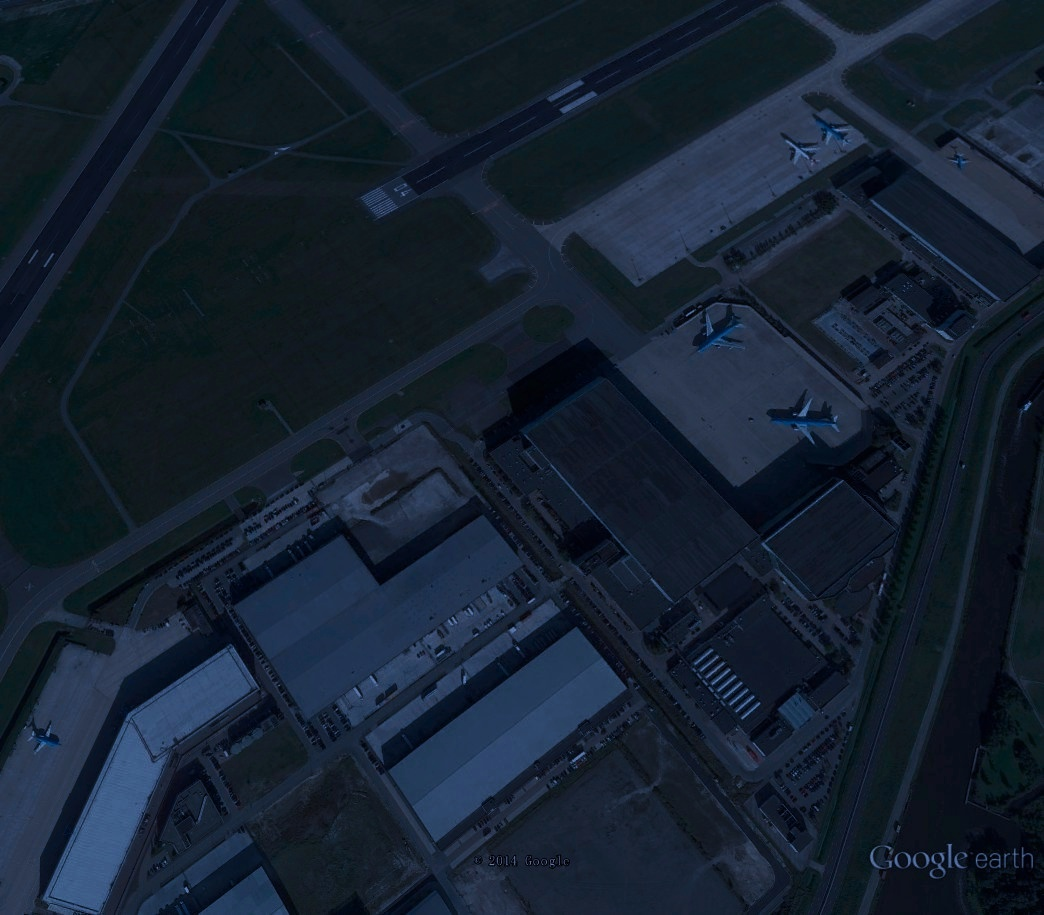aircraft: (765, 394, 846, 451), (687, 301, 754, 360), (22, 718, 66, 757), (778, 132, 823, 168), (811, 112, 855, 148), (946, 150, 973, 174)
